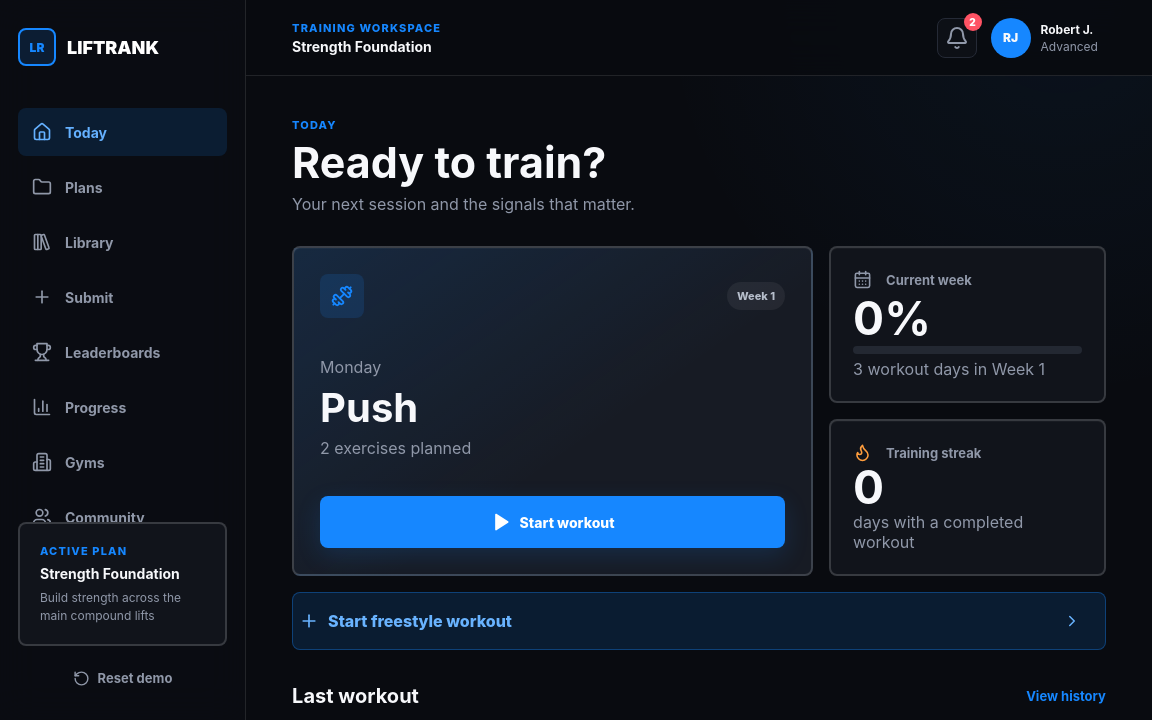
Scenario: LiftRank tracker UI › keeps weight and reps blank and requires both before completion
Click the button "Start workout" at {"x": 553, "y": 522}, box [320,496,785,548]
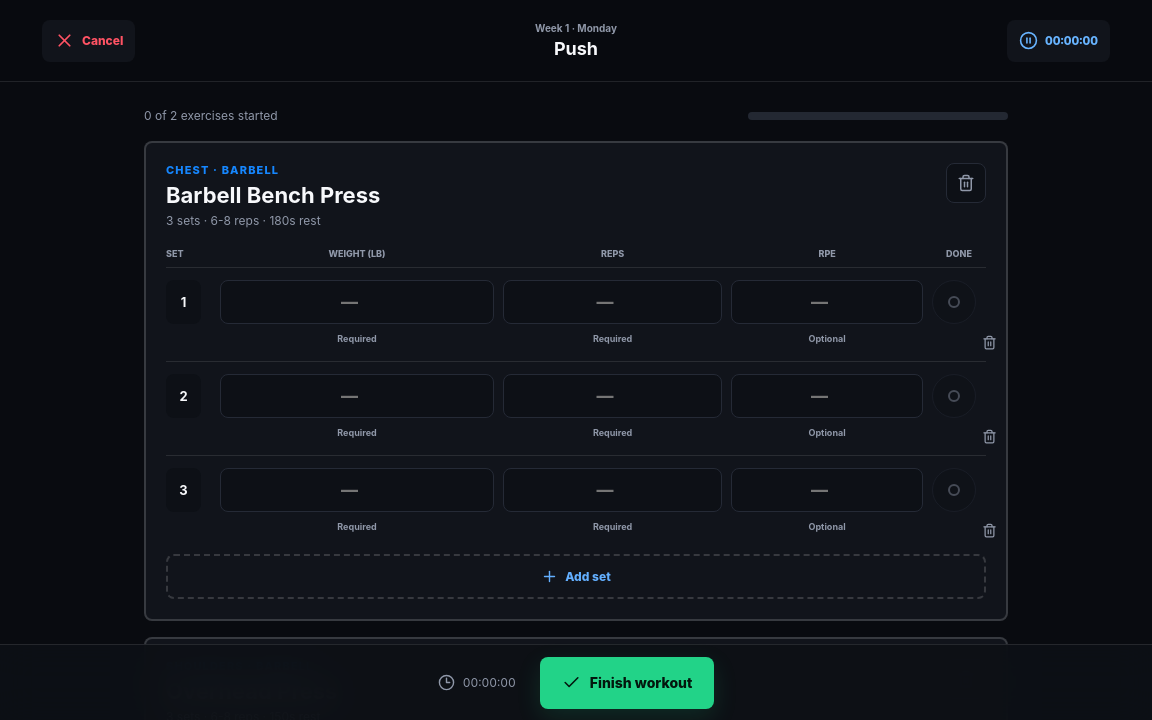
Expected: the number field named "Set 1 weight" is not empty
Expected: the number field named "Set 1 reps" is not empty, [503,280,722,324]
Expected: the button named "Complete set 1" is disabled, [932,280,976,324]
Type "225" into the number field named "Set 1 weight" at {"x": 357, "y": 302}, box [220,280,494,324]
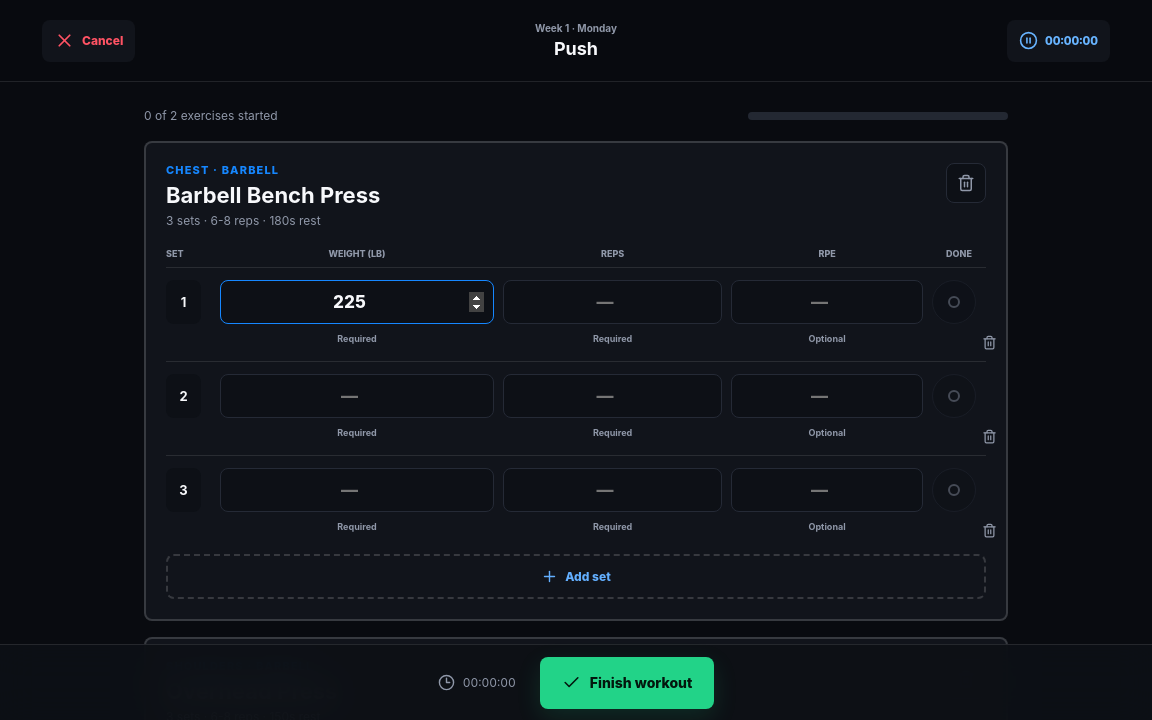
Type "5" into the number field named "Set 1 reps" at {"x": 613, "y": 302}, box [503,280,722,324]
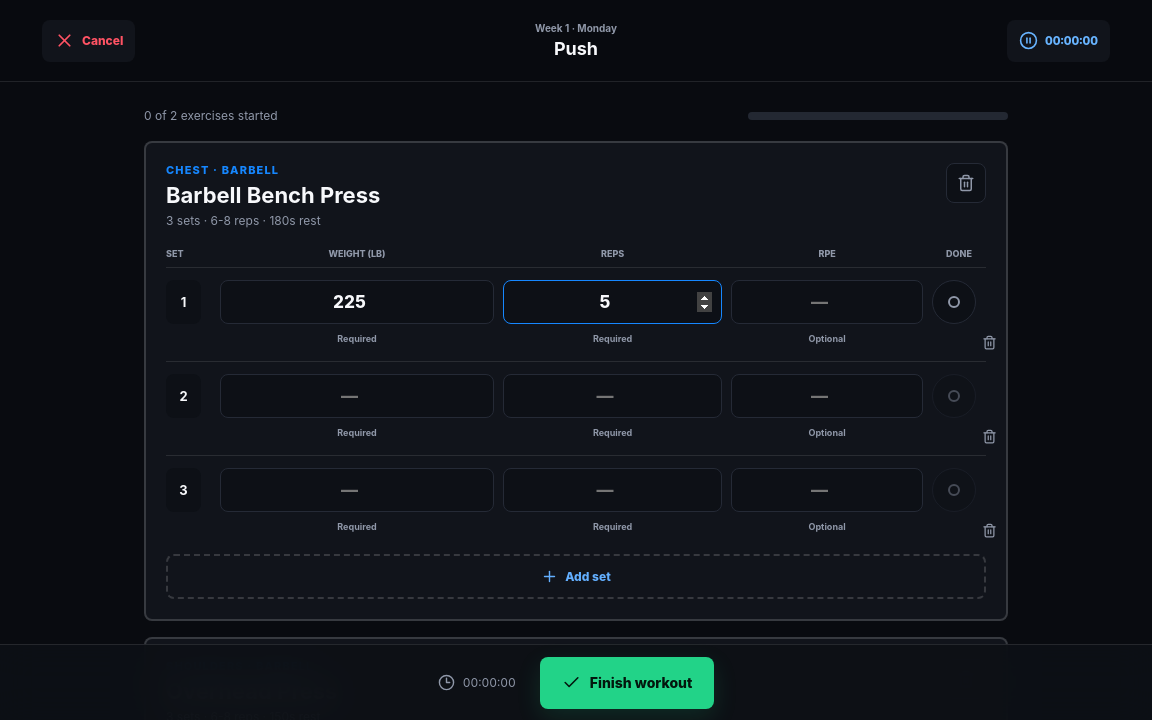
Expected: the button named "Complete set 1" is enabled, [932,280,976,324]
